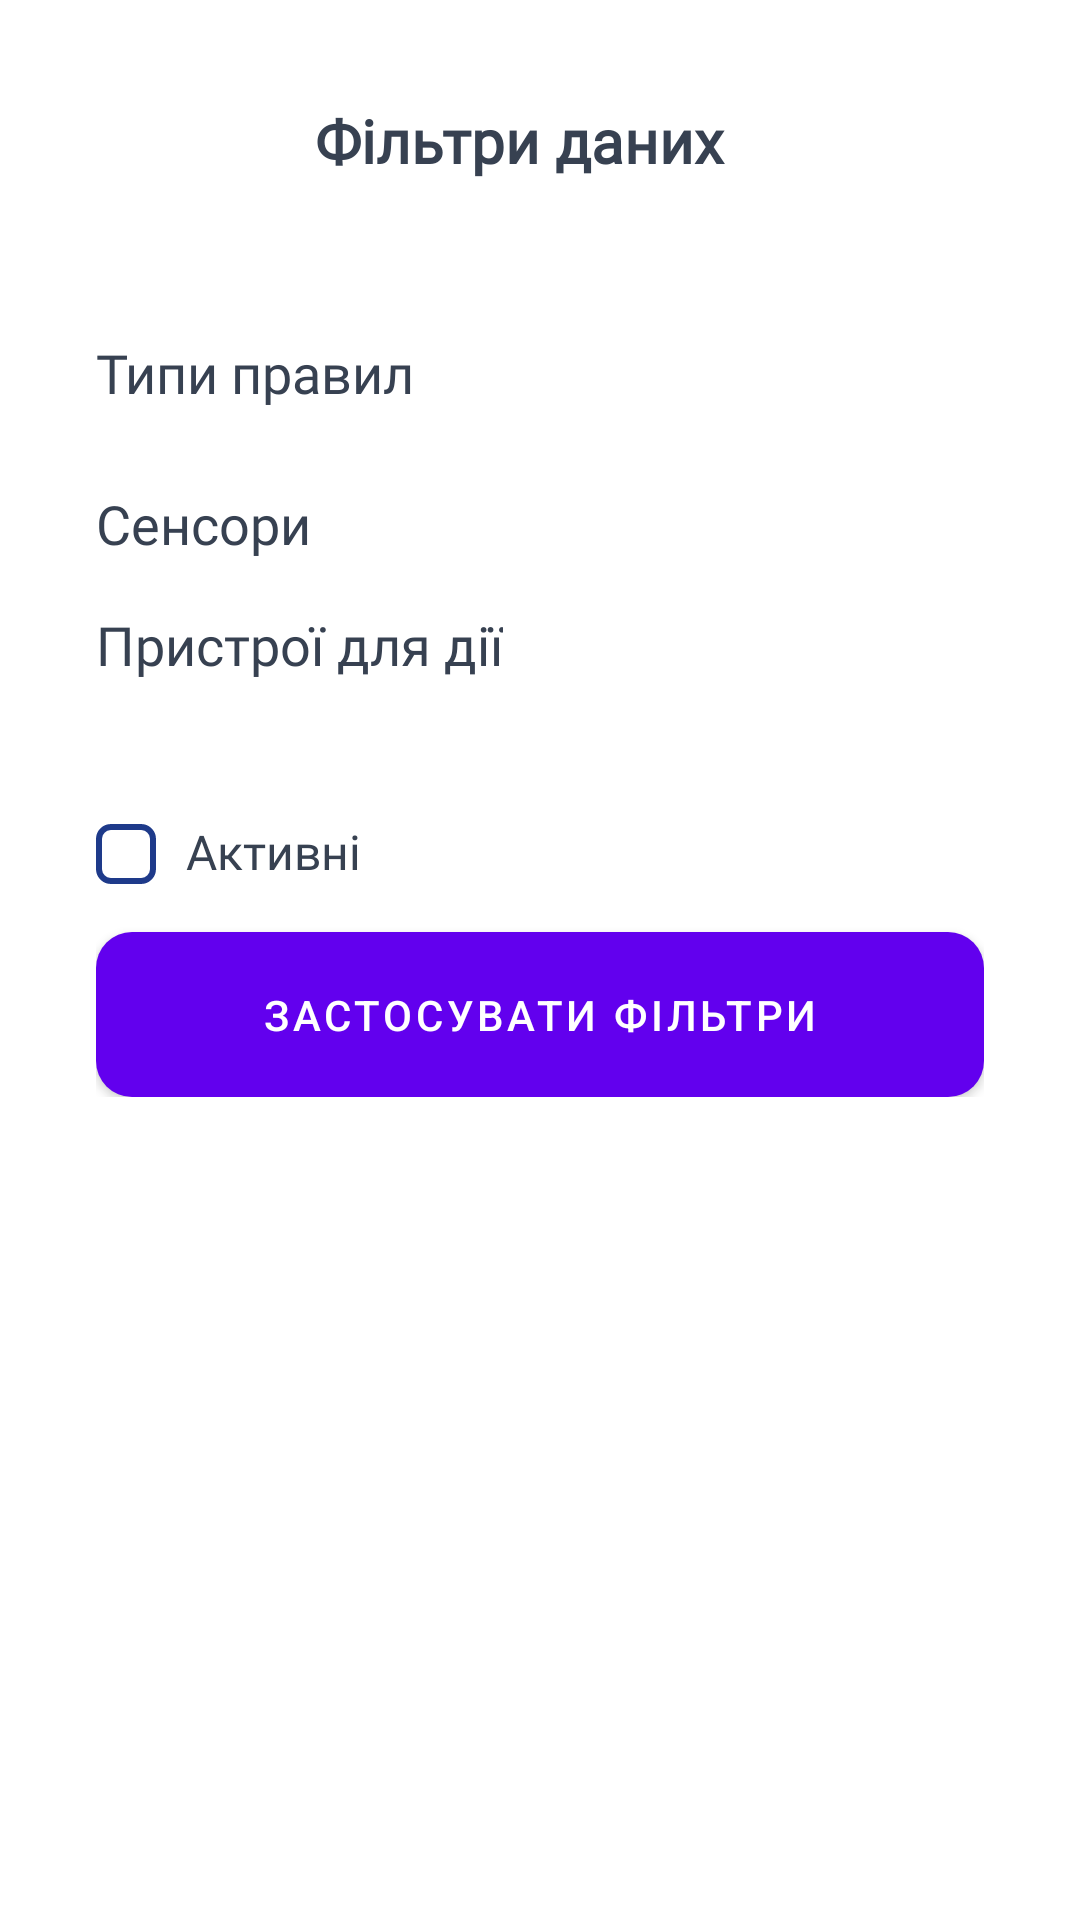

Icons on this 1080*1920 Android screen, each with its box as (x1, y1, x2, y2):
custom checkbox: (96, 824, 156, 884)
